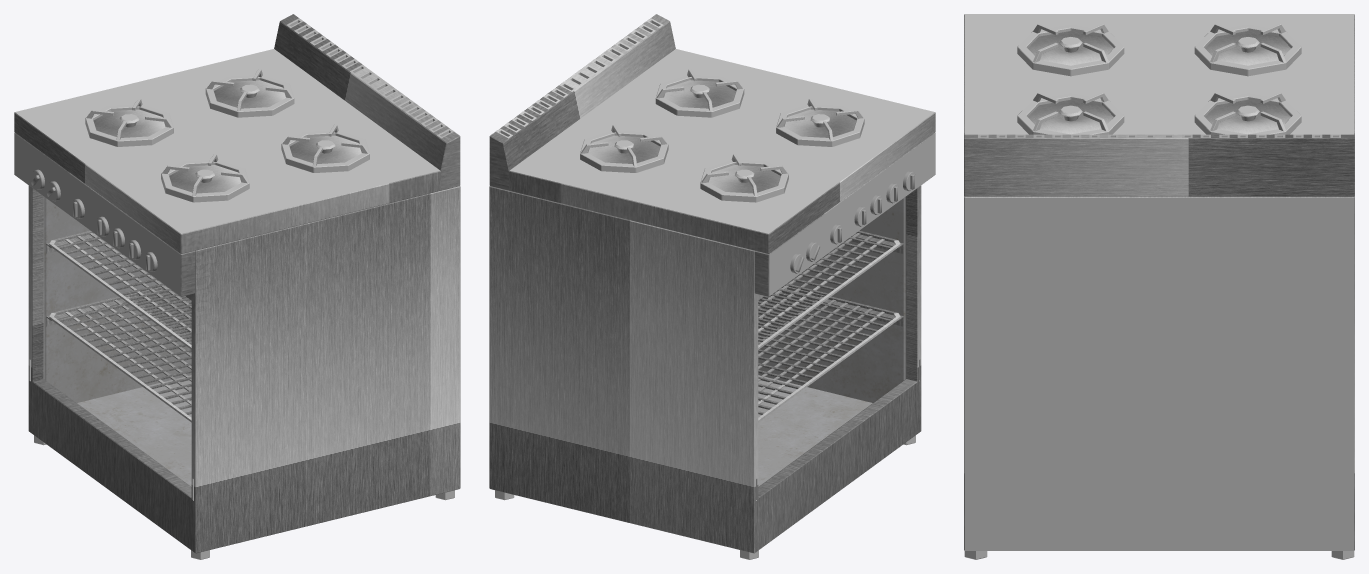
The model's file is estufa.obj.
The picture shows the model from 3 angles, left to right: view 1: azimuth 30°, elevation 25°; view 2: azimuth 150°, elevation 25°; view 3: azimuth 270°, elevation 25°; orthographic projection. The views are drawn at different scales.
Visible parts, largest first — view 1: StoveOvenRack1; view 2: StoveOvenRack1; view 3: StoveOvenRack1.
Part boxes in pixels (x1=…): StoveOvenRack1: x1=14, y1=14, x2=460, y2=559; StoveOvenRack1: x1=489, y1=14, x2=935, y2=559; StoveOvenRack1: x1=964, y1=14, x2=1354, y2=559.
Size of the model in its own units: 3.86 by 4.65 by 3.9.
